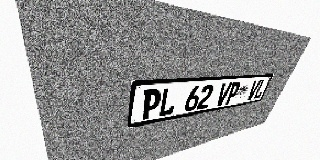2: (196, 84, 215, 110)
6: (183, 85, 203, 112)
L: (158, 87, 179, 117), (253, 79, 268, 99)
P: (140, 88, 162, 120), (224, 82, 242, 105)
V: (214, 82, 232, 106), (245, 80, 262, 101)
